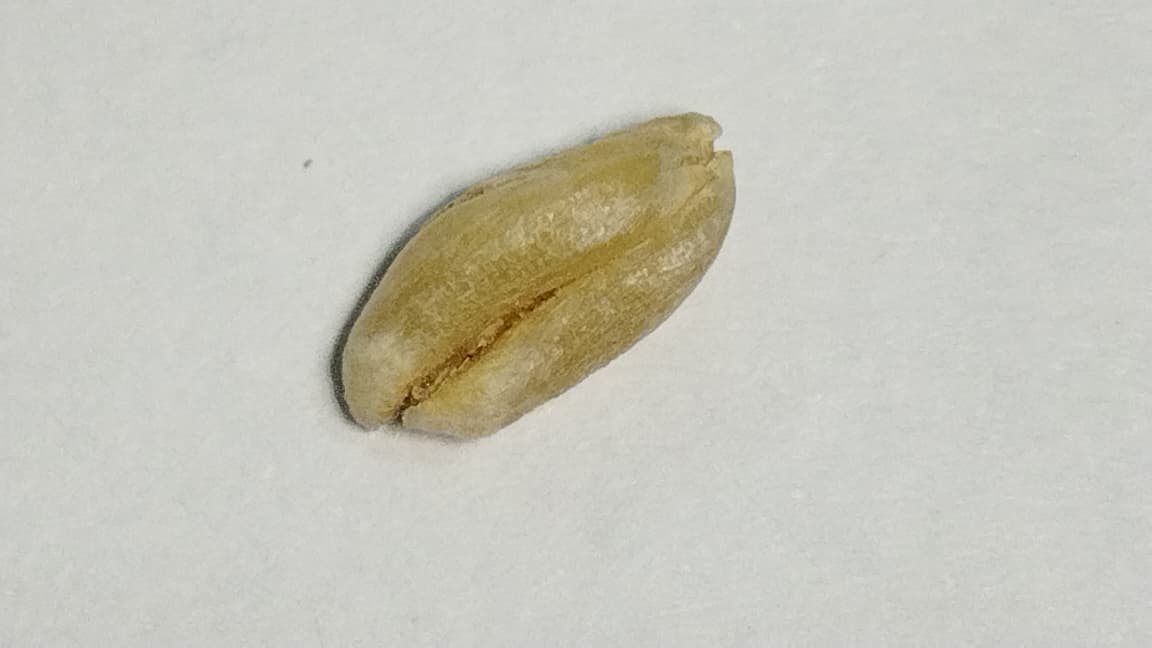healthy: (334, 113, 735, 436)
